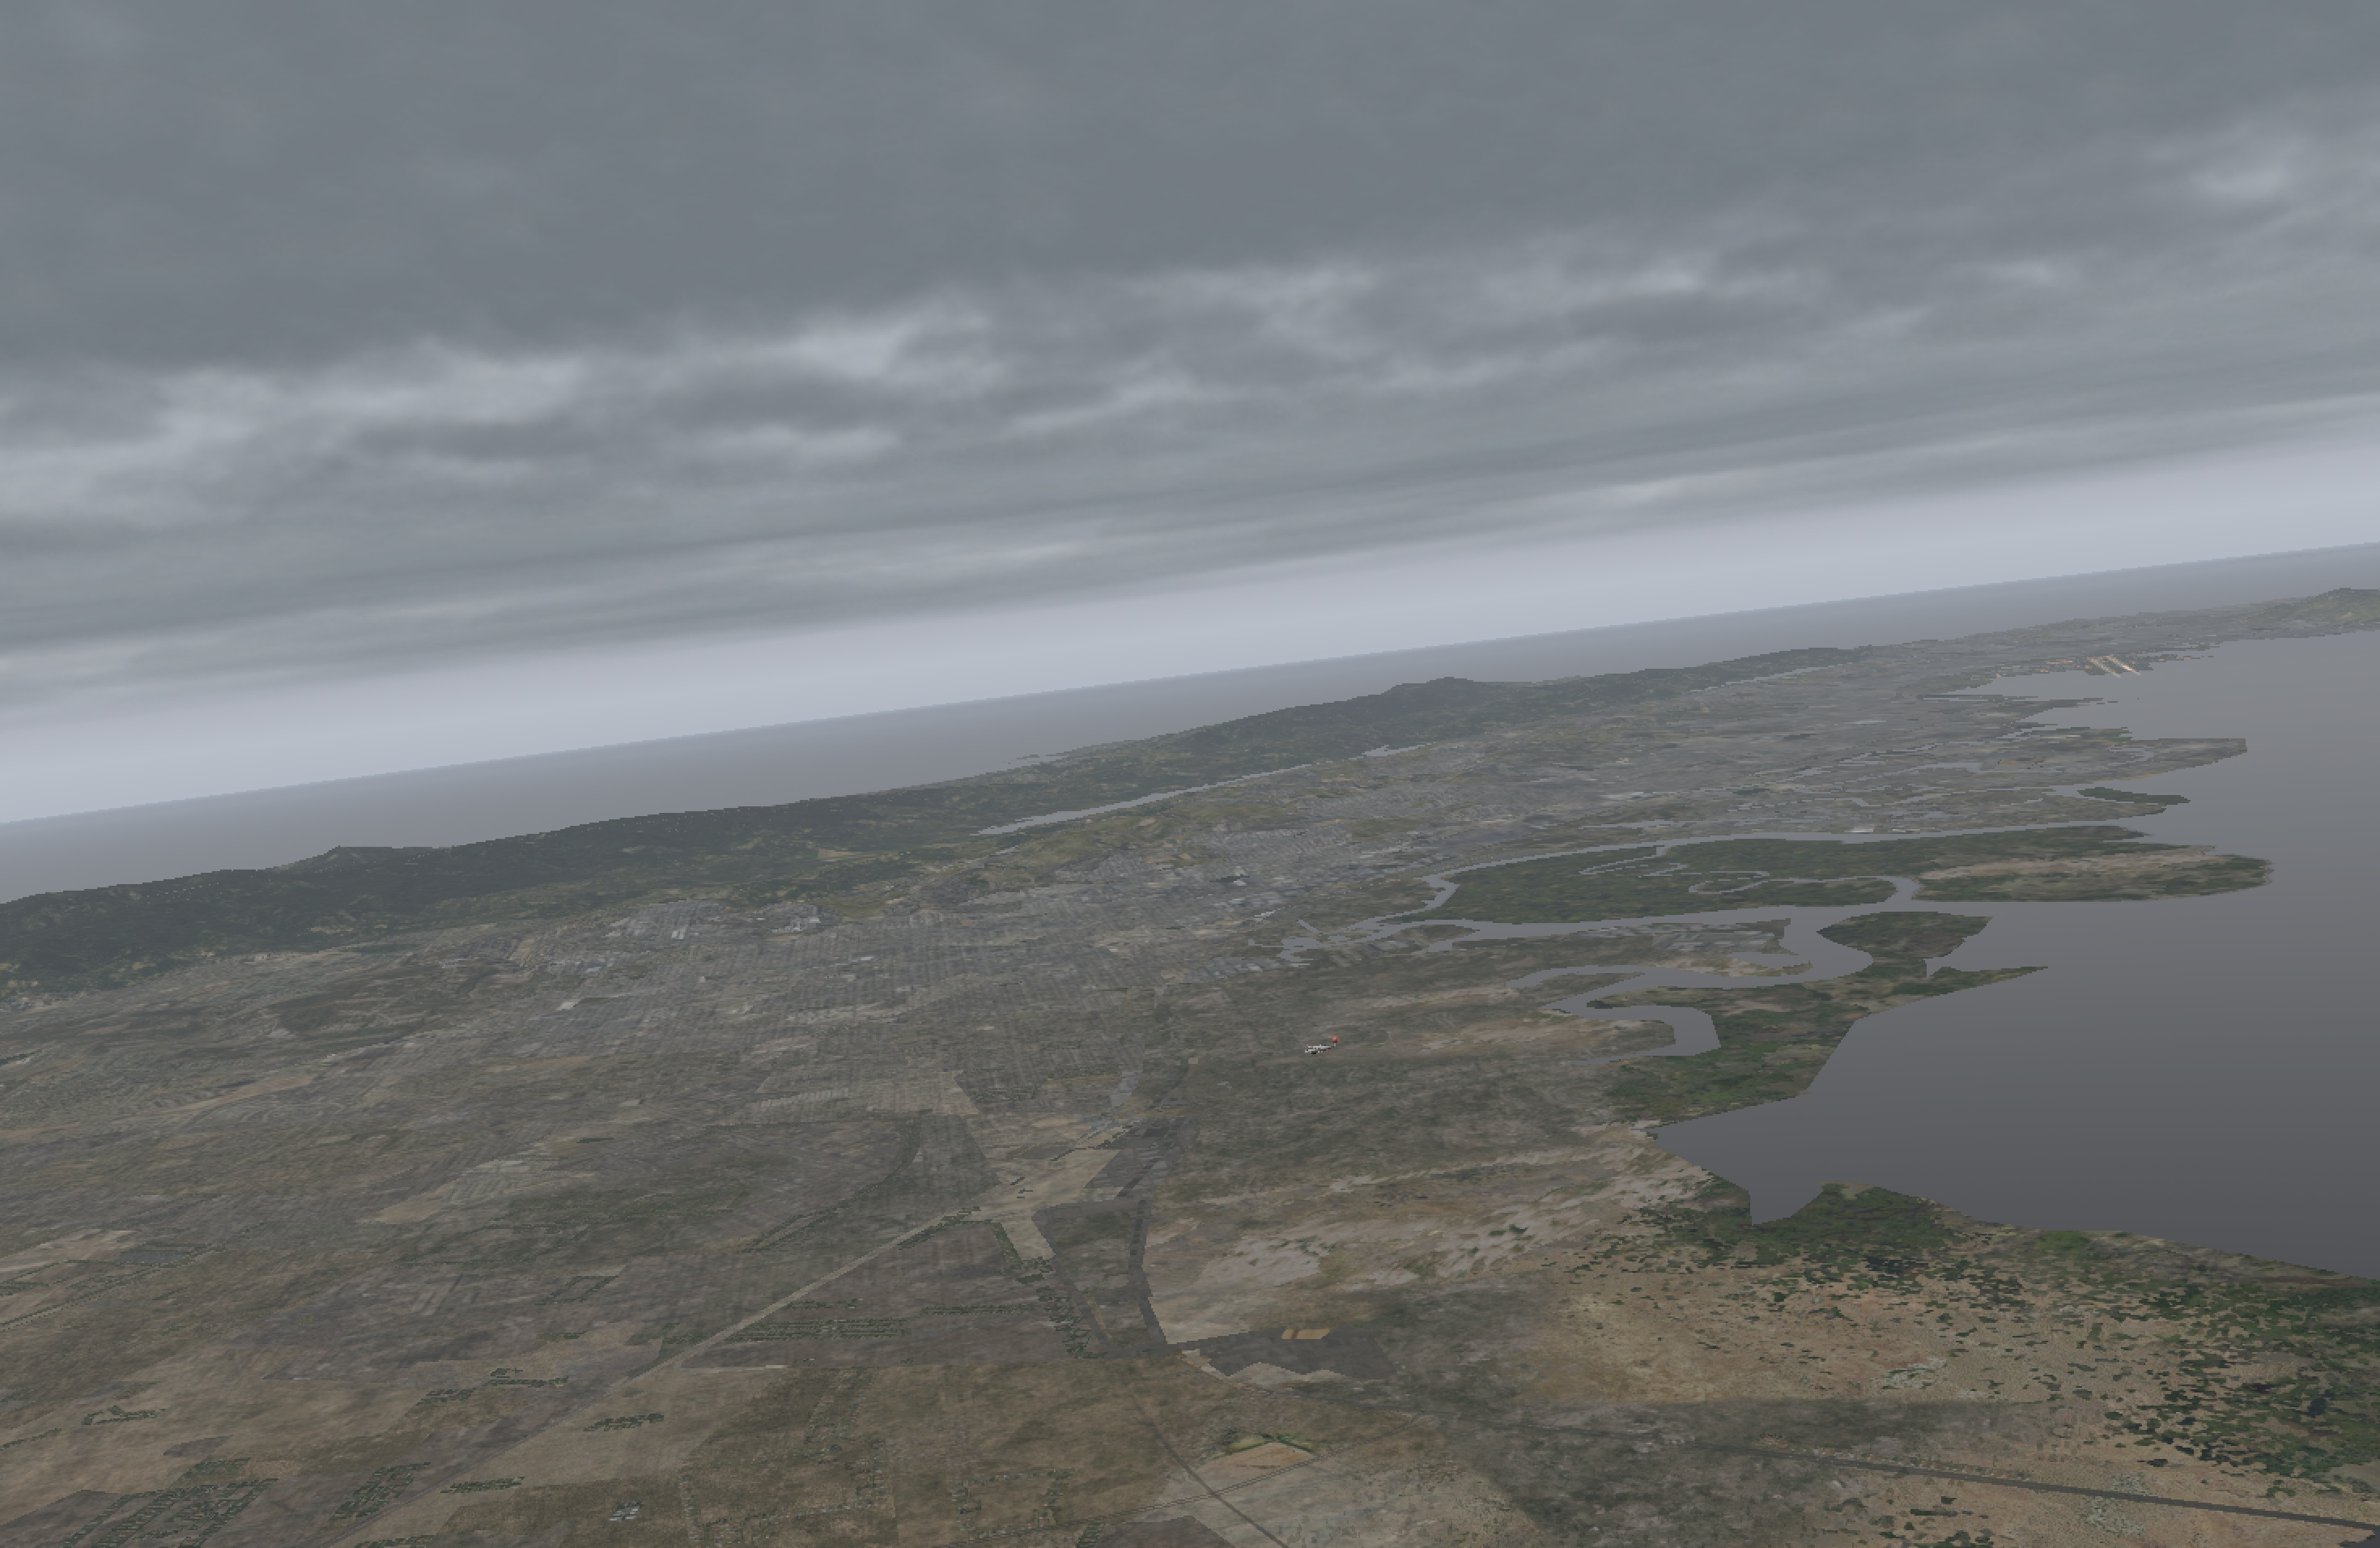aircraft: (1291, 1041, 1341, 1060)
